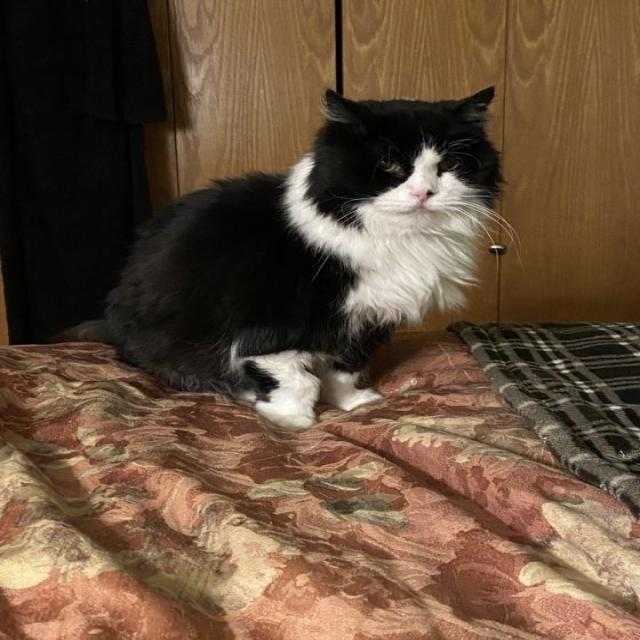domestic_long_hair_cat: (268, 70, 546, 284)
